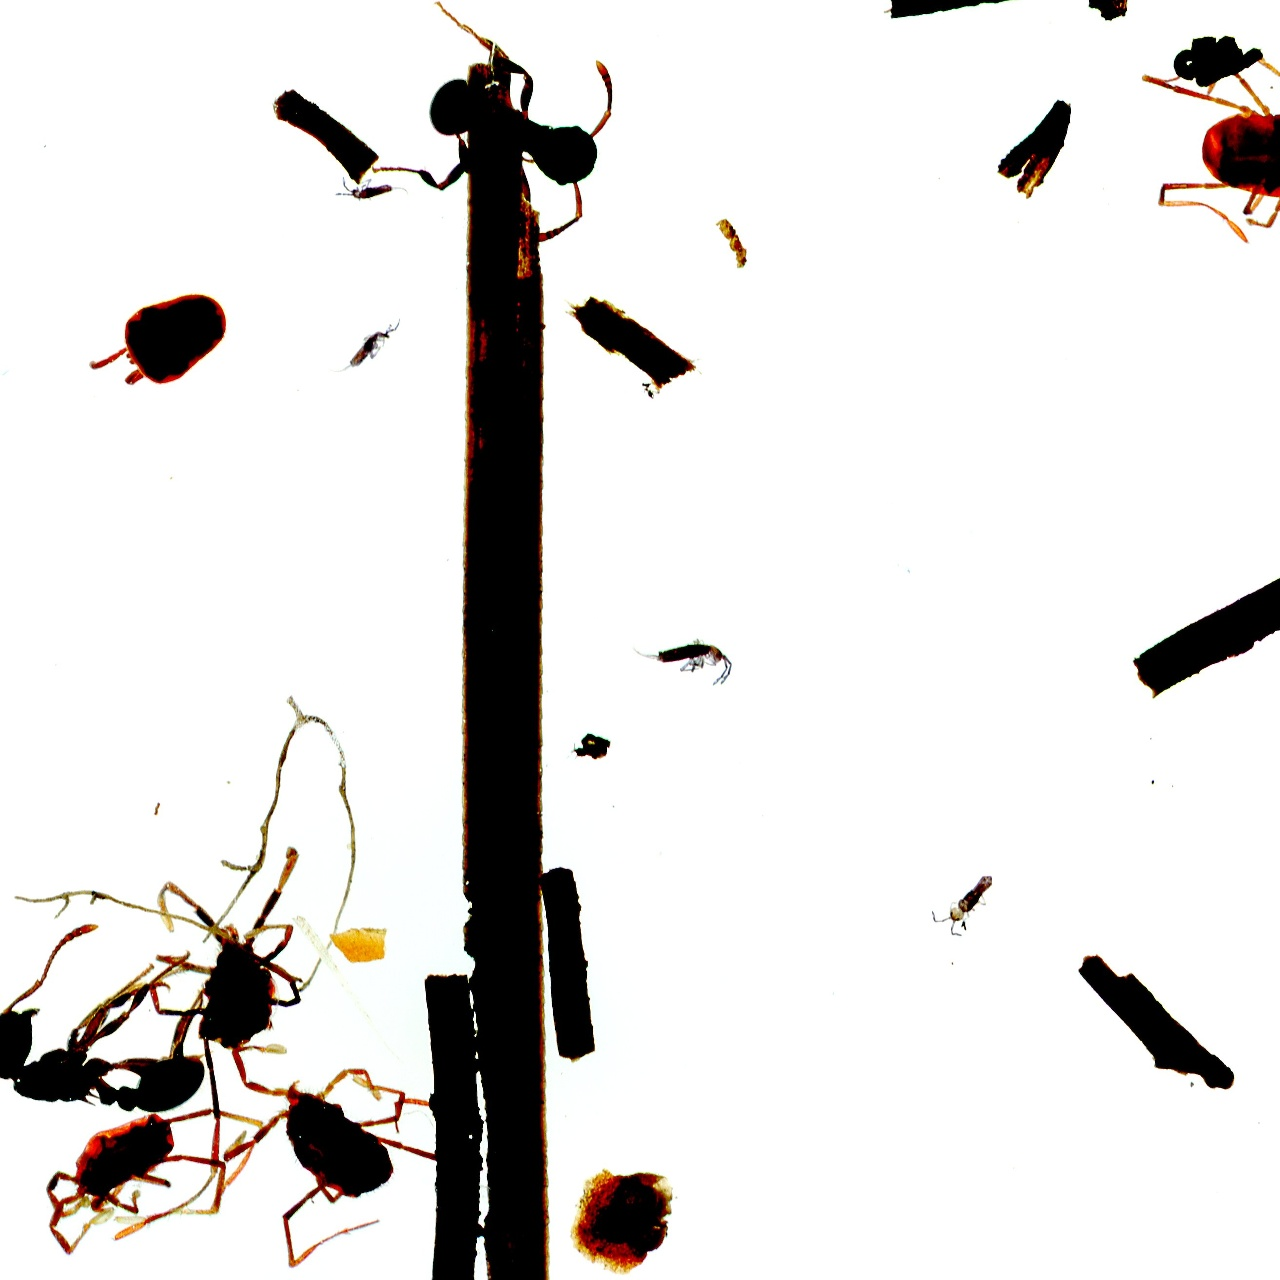arthropod: (349, 0, 666, 271), (108, 832, 313, 1247), (18, 1074, 294, 1270), (217, 1036, 436, 1275), (0, 904, 224, 1126), (1125, 48, 1280, 247), (78, 285, 231, 394), (916, 843, 1018, 954), (617, 623, 744, 698), (325, 298, 408, 398), (334, 165, 421, 206)
